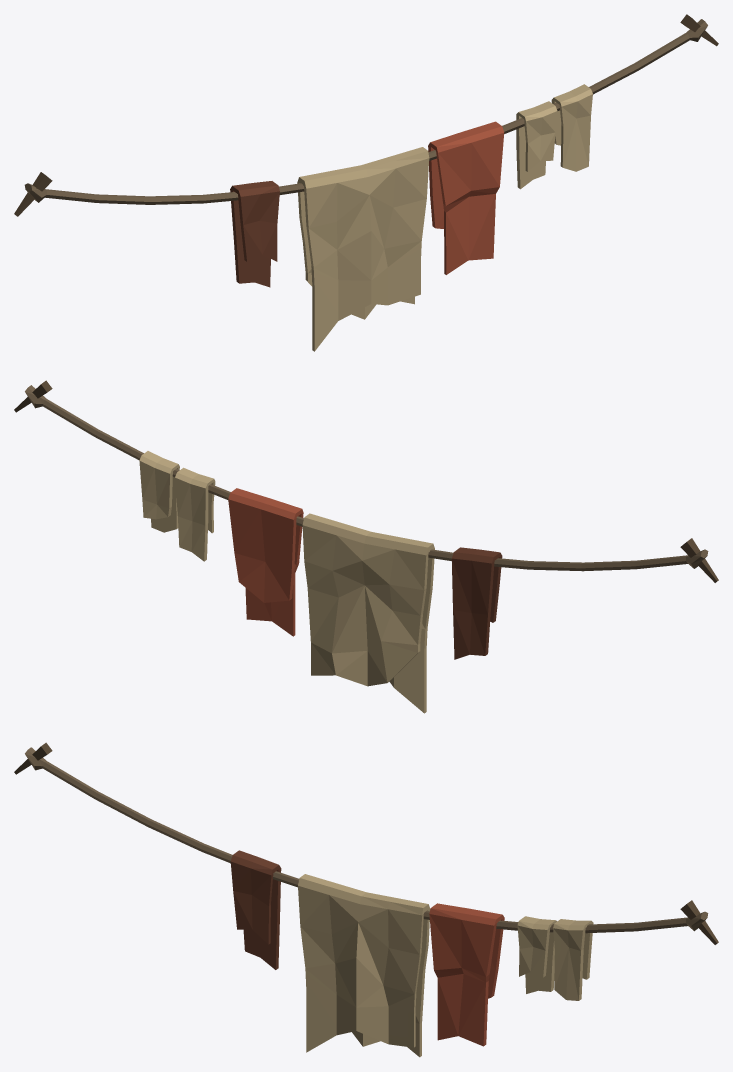
Rendered from SM_Prop_Washingline_03.gltf.
3 views of the same model, one above another, from view 1: azimuth 30°, elevation 25°; view 2: azimuth 150°, elevation 25°; view 3: azimuth 330°, elevation 25° (orthographic).
Visible parts, largest first — view 1: SM_Prop_Washingline_03; view 2: SM_Prop_Washingline_03; view 3: SM_Prop_Washingline_03.
Boxes of the visible parts, box(x1,y1,x2,y2) form: SM_Prop_Washingline_03: box(14, 14, 718, 351); SM_Prop_Washingline_03: box(14, 380, 718, 713); SM_Prop_Washingline_03: box(14, 742, 718, 1057).
Bounding box in the file's own units: 5.55 × 1.81 × 0.2242.
Materials: 1 (1 with a texture image).
